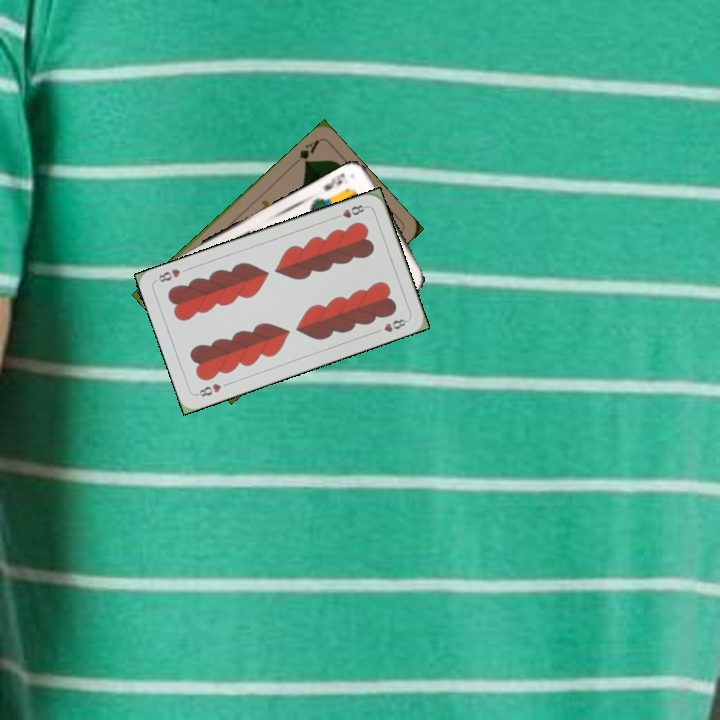EK: (319, 169, 351, 194)
GA: (289, 136, 322, 168)
H8: (330, 201, 369, 222), (192, 379, 224, 399)
